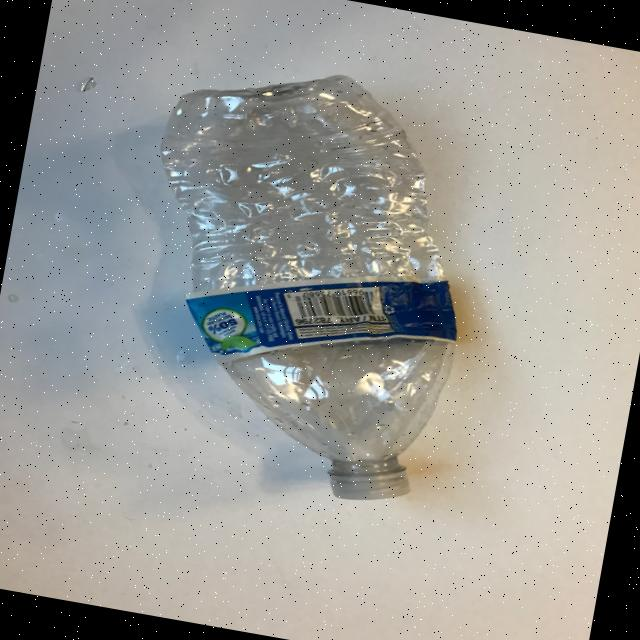plastic: (104, 44, 500, 513)
